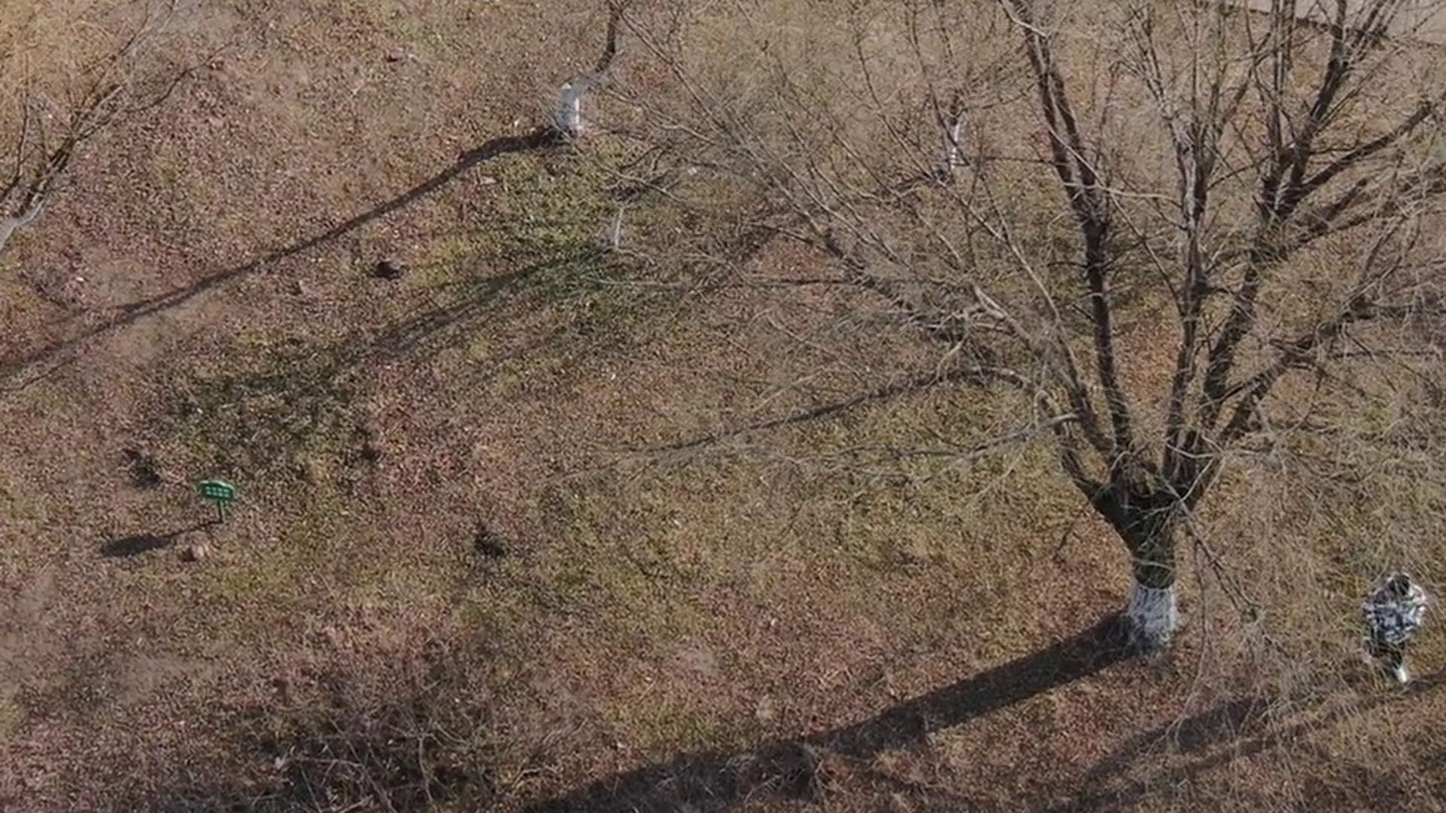human: (1353, 600, 1402, 705)
